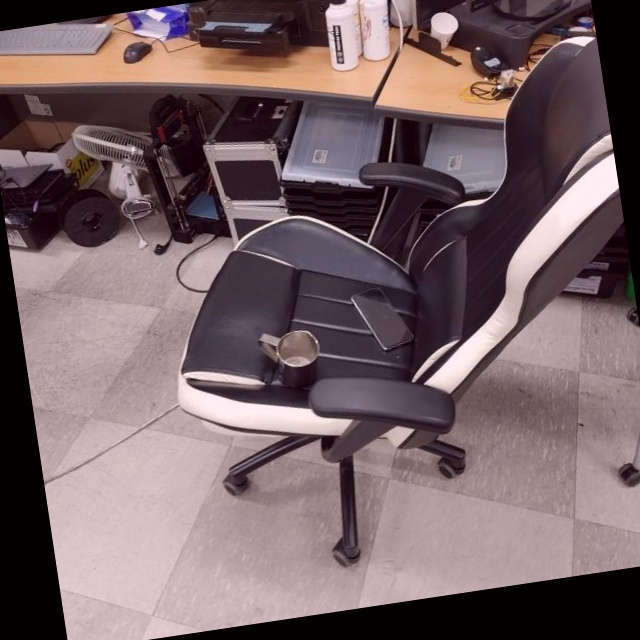cup: (256, 322, 326, 394)
phone: (346, 281, 419, 358)
